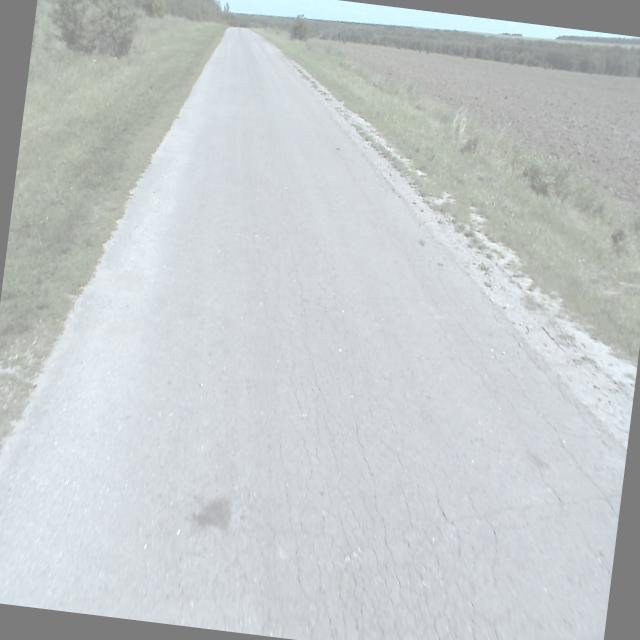road: (0, 26, 626, 640)
